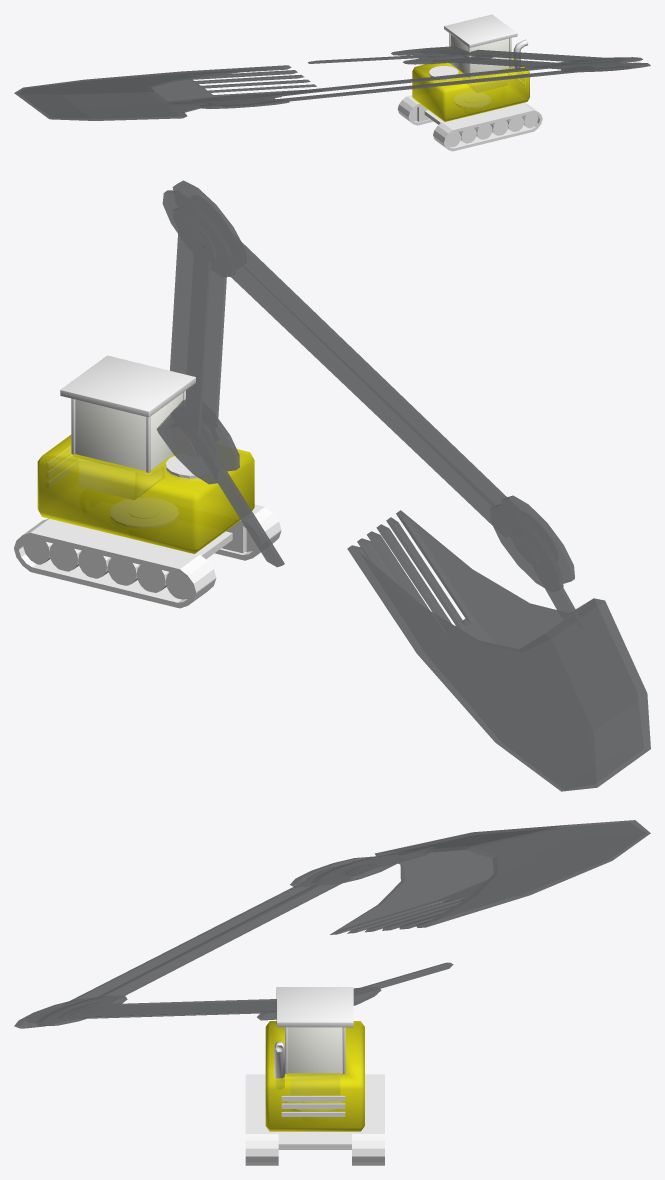
3 views of the same model, one above another, from view 1: azimuth 30°, elevation 25°; view 2: azimuth 150°, elevation 25°; view 3: azimuth 270°, elevation 25° (orthographic). The views are drawn at different scales.
Visible parts, largest first — view 1: Cylinder.004, Cylinder.002, Cube.002, Cylinder.001, Plane.001, Circle, Cylinder.003, Circle.001, Cylinder.011, Cylinder.005; view 2: Cylinder.004, Cylinder.002, Cube.002, Cylinder.001, Plane.001, Circle.001, Cylinder.003, Cylinder.011, Circle; view 3: Cylinder.004, Cylinder.002, Cube.002, Plane.001, Cylinder.001, Circle, Circle.001, Cube.004, Cylinder.003, Cylinder.
Part boxes in pixels (x1,y1,x2,y2): Cylinder.004: [14, 65, 316, 120]; Cylinder.002: [192, 57, 650, 108]; Cube.002: [412, 58, 529, 121]; Cylinder.001: [391, 46, 631, 71]; Plane.001: [444, 14, 517, 78]; Circle: [433, 103, 542, 151]; Cylinder.003: [308, 48, 464, 63]; Circle.001: [397, 95, 433, 125]; Cylinder.011: [454, 92, 490, 108]; Cylinder.005: [429, 66, 458, 80]; Cylinder.004: [347, 510, 650, 791]; Cylinder.002: [162, 180, 574, 592]; Cube.002: [37, 434, 254, 553]; Cylinder.001: [156, 205, 239, 484]; Plane.001: [60, 355, 195, 474]; Circle.001: [14, 518, 216, 608]; Cylinder.003: [168, 419, 284, 567]; Cylinder.011: [110, 497, 178, 528]; Circle: [215, 504, 281, 560]; Cylinder.004: [313, 820, 650, 934]; Cylinder.002: [14, 854, 403, 1028]; Cube.002: [265, 1021, 364, 1131]; Plane.001: [276, 987, 353, 1075]; Cylinder.001: [38, 986, 381, 1020]; Circle: [245, 1074, 278, 1165]; Circle.001: [352, 1074, 384, 1165]; Cube.004: [278, 1131, 351, 1149]; Cylinder.003: [353, 962, 453, 999]; Cylinder: [274, 1041, 284, 1088].
Bounding box in the file's own units: 10.24 × 2.56 × 8.68.
